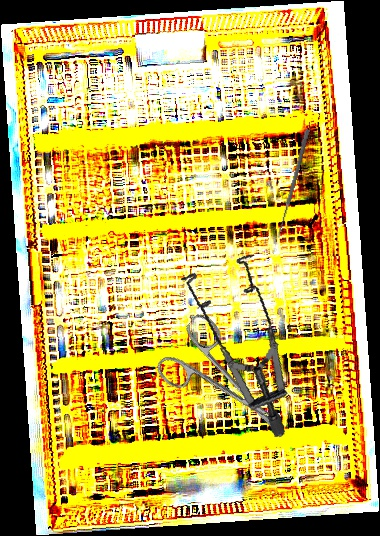Iris Scissors: (149, 310, 304, 461)
Speculum: (150, 241, 322, 440)
Surgical Spoon: (276, 128, 310, 239)
